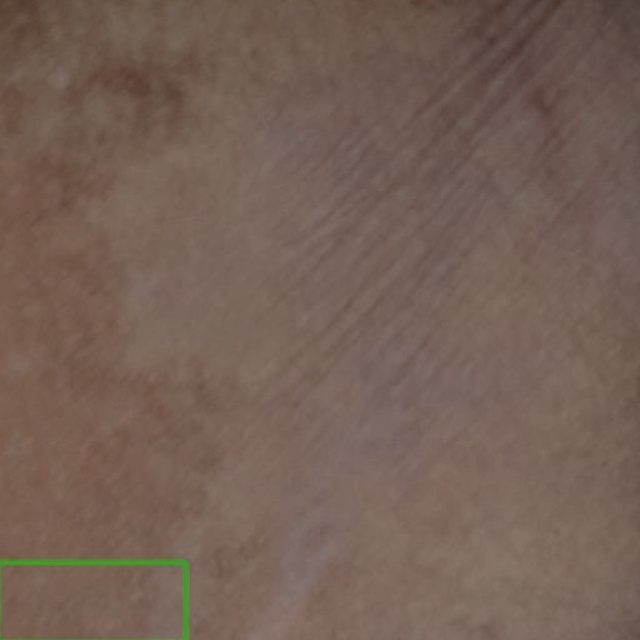Contact Dermatitis: (0, 562, 185, 639)
